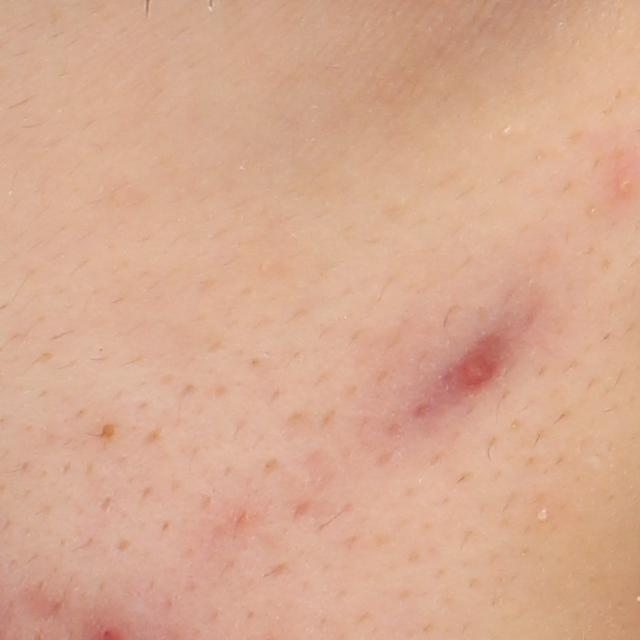comedo: (95, 418, 120, 446)
papule: (457, 354, 494, 387)
